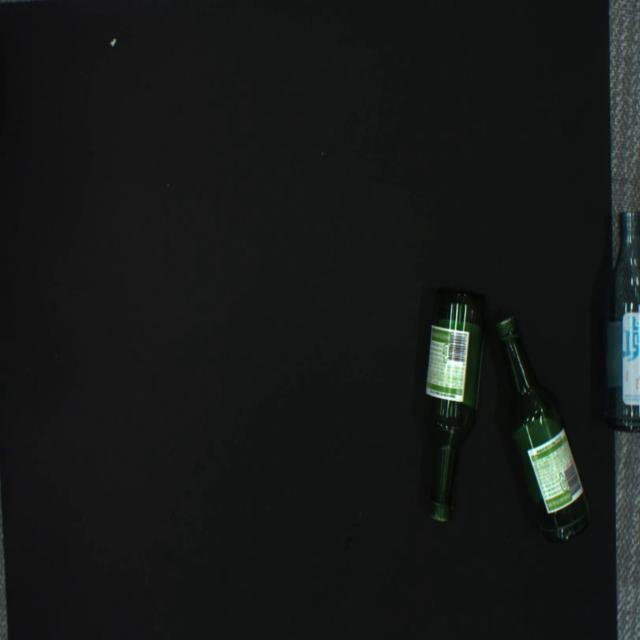soju-bottle: (494, 317, 591, 543), (420, 288, 488, 523), (602, 210, 639, 432)
